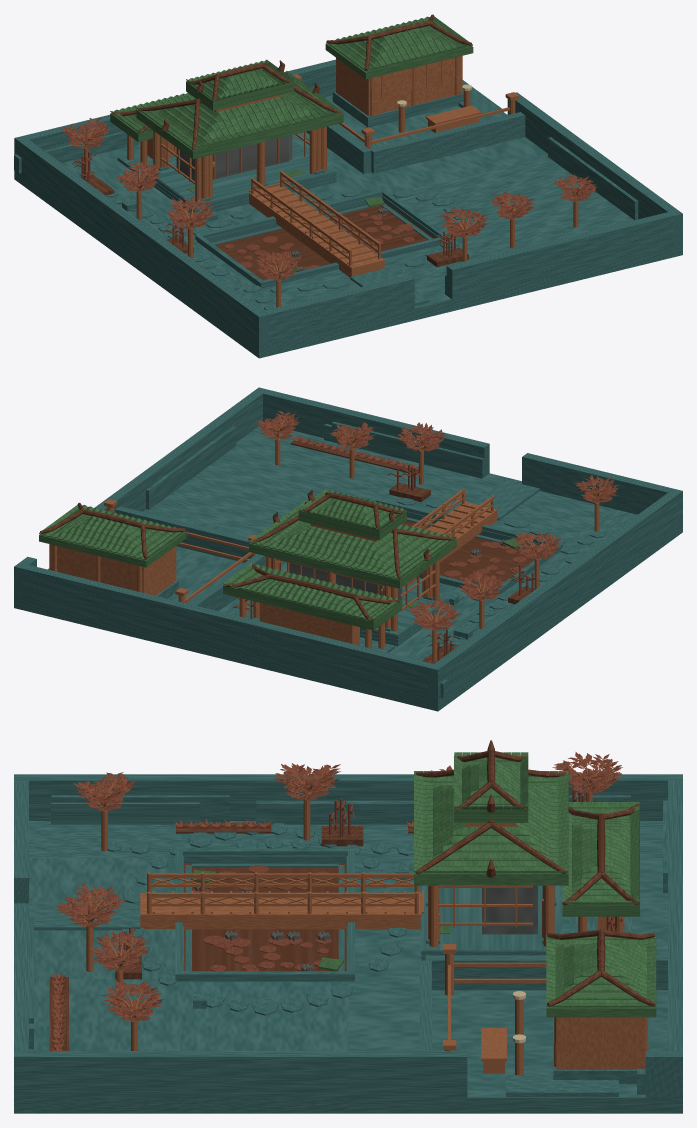
3 views of the same model, one above another, from view 1: azimuth 30°, elevation 25°; view 2: azimuth 150°, elevation 25°; view 3: azimuth 270°, elevation 25° (orthographic). The views are drawn at different scales.
Visible parts, largest first — view 1: garrison_part_0000, garrison_part_0004, garrison_part_0006, garrison_part_0001, garrison_part_0005, garrison_part_0002, garrison_part_0003; view 2: garrison_part_0000, garrison_part_0005, garrison_part_0004, garrison_part_0006, garrison_part_0001, garrison_part_0002, garrison_part_0003; view 3: garrison_part_0000, garrison_part_0004, garrison_part_0005, garrison_part_0006, garrison_part_0001, garrison_part_0002, garrison_part_0003.
Part boxes in pixels (x1,y1,x2,y2): garrison_part_0000: (14,80,682,358); garrison_part_0004: (14,18,682,346); garrison_part_0006: (60,14,673,299); garrison_part_0001: (66,20,595,344); garrison_part_0005: (24,16,593,292); garrison_part_0002: (14,96,638,296); garrison_part_0003: (147,77,638,293); garrison_part_0000: (14,426,682,711); garrison_part_0005: (14,410,618,697); garrison_part_0004: (43,387,682,699); garrison_part_0006: (39,389,618,663); garrison_part_0001: (46,412,672,660); garrison_part_0002: (160,423,562,698); garrison_part_0003: (52,421,486,634); garrison_part_0000: (14,821,682,1113); garrison_part_0004: (14,749,682,1097); garrison_part_0005: (50,740,682,1097); garrison_part_0006: (14,750,667,1074); garrison_part_0001: (14,752,640,1050); garrison_part_0002: (29,800,667,1094); garrison_part_0003: (29,795,648,1084).
Bounding box in the file's own units: 1091 × 305 × 1084.
